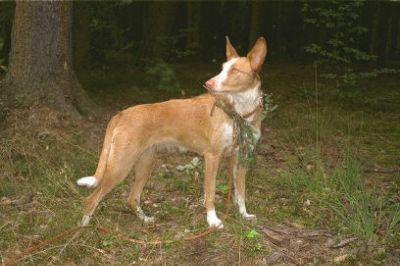Ibizan_hound: (75, 34, 268, 232)
